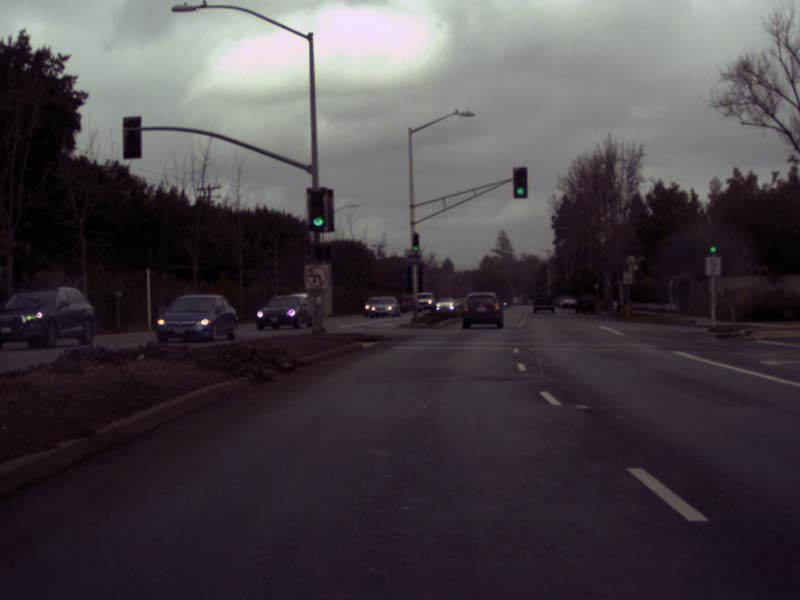Green: (512, 166, 528, 200), (310, 192, 324, 227), (412, 232, 419, 253), (709, 234, 716, 255)
